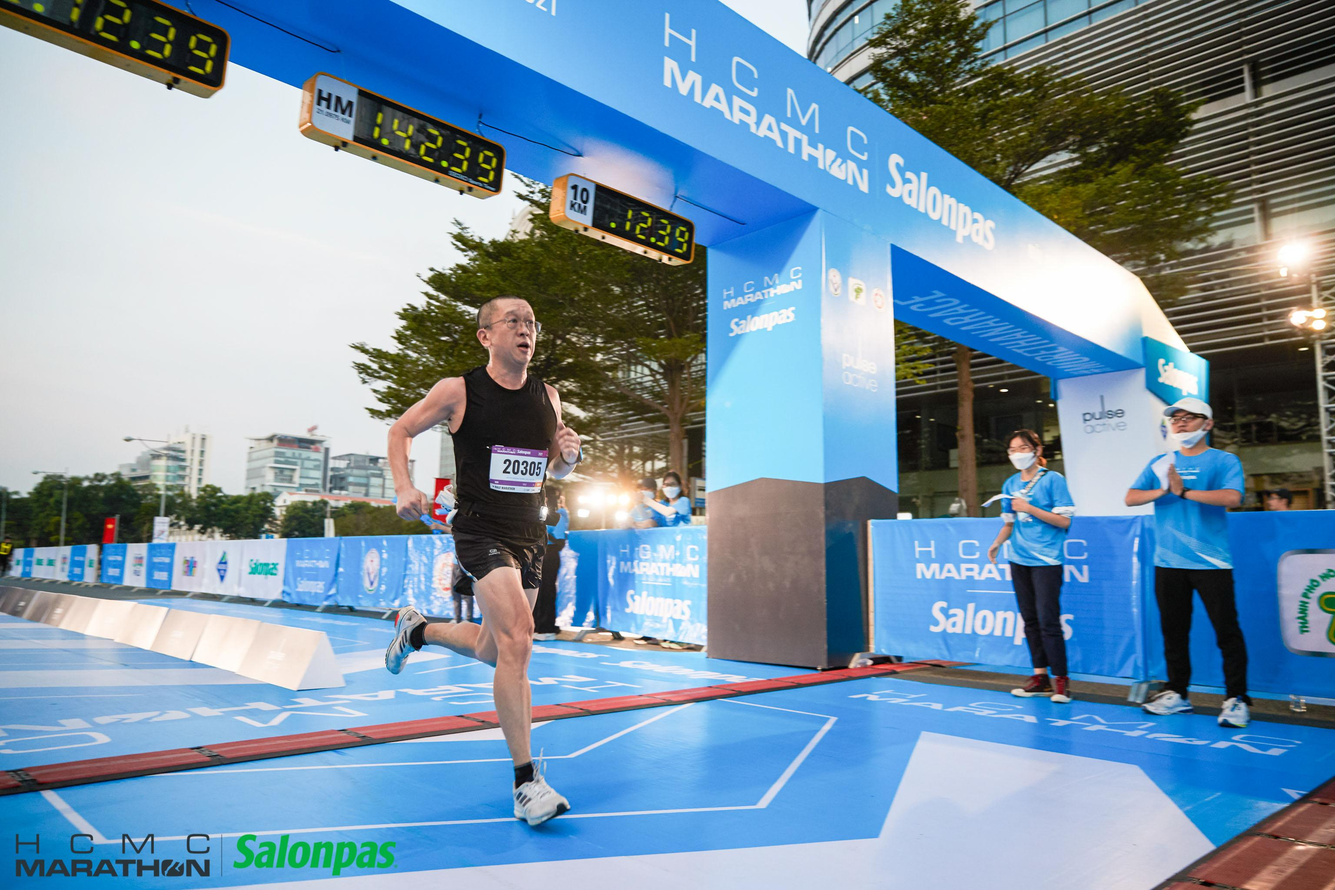bib: (488, 445, 547, 498)
